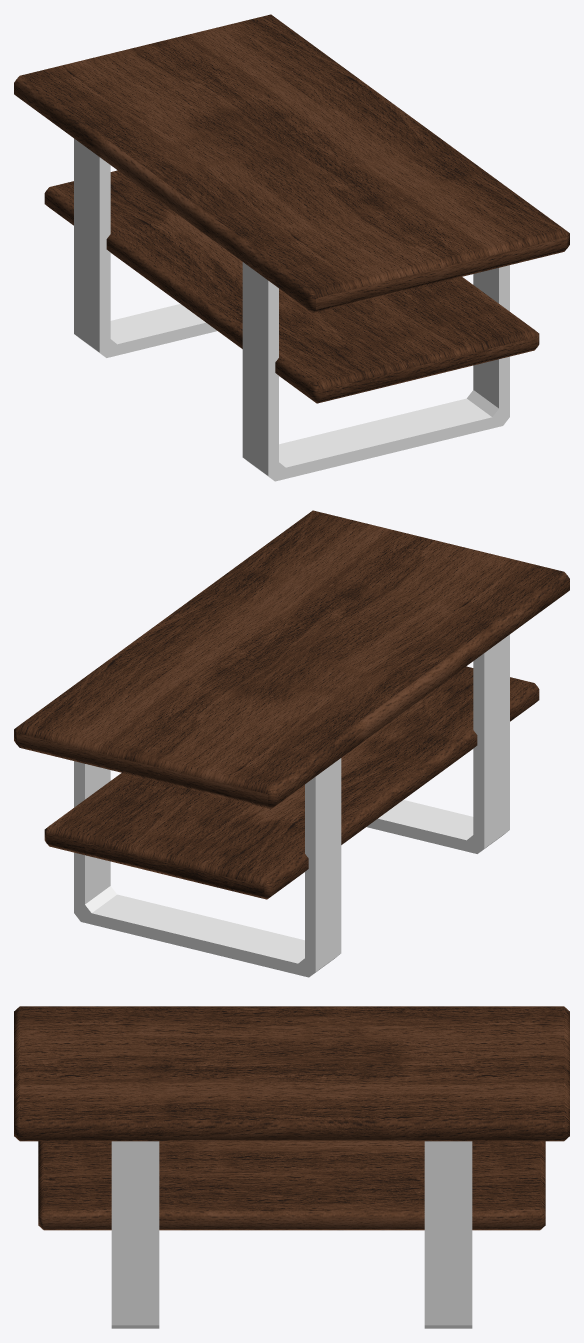
The model's file is coffee_table_019.fbx.
The picture shows the model from 3 angles, top to bottom: view 1: azimuth 30°, elevation 25°; view 2: azimuth 150°, elevation 25°; view 3: azimuth 270°, elevation 25°; orthographic projection. The views are drawn at different scales.
Visible parts, largest first — view 1: coffee_table_019; view 2: coffee_table_019; view 3: coffee_table_019.
Part boxes in pixels (x1=…): coffee_table_019: x1=14, y1=14, x2=569, y2=481; coffee_table_019: x1=14, y1=510, x2=569, y2=977; coffee_table_019: x1=14, y1=1006, x2=569, y2=1328.
Bounding box in the file's own units: 78.5 × 155 × 65.73.
